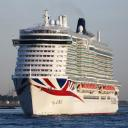cruises: (12, 8, 124, 120)
